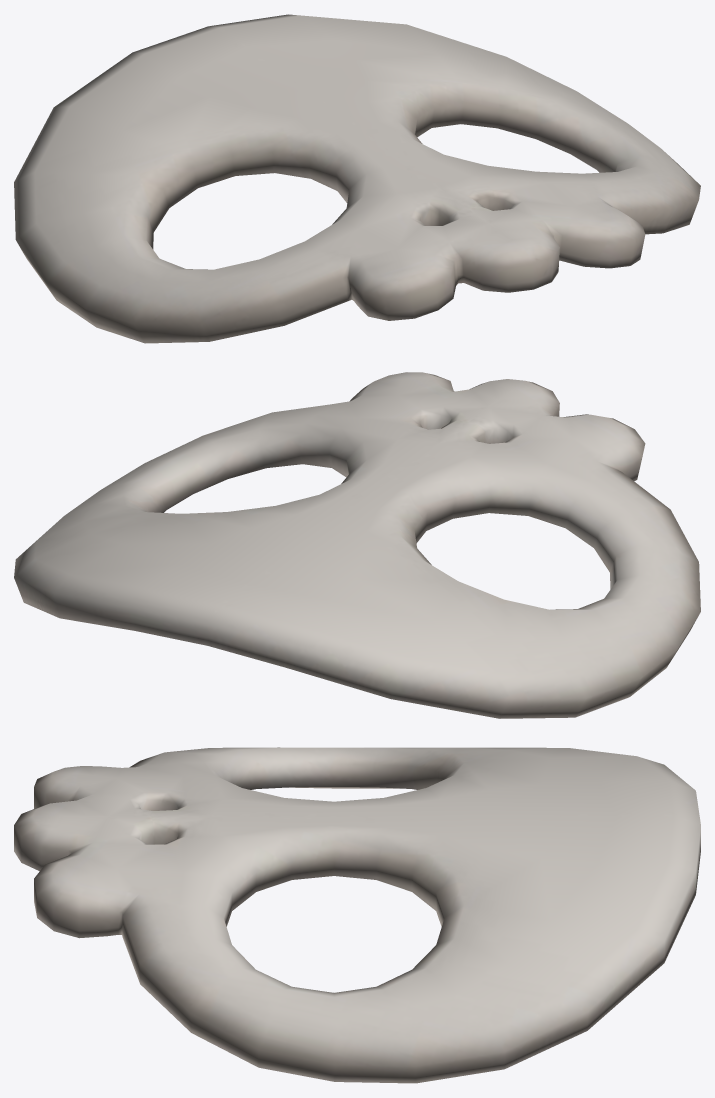
The model's file is skull-mask.glb.
The picture shows the model from 3 angles, top to bottom: view 1: azimuth 30°, elevation 25°; view 2: azimuth 150°, elevation 25°; view 3: azimuth 270°, elevation 25°; orthographic projection. The views are drawn at different scales.
Size of the model in its own units: 1 by 0.182 by 0.9469.
Materials: 1 (1 with a texture image).
